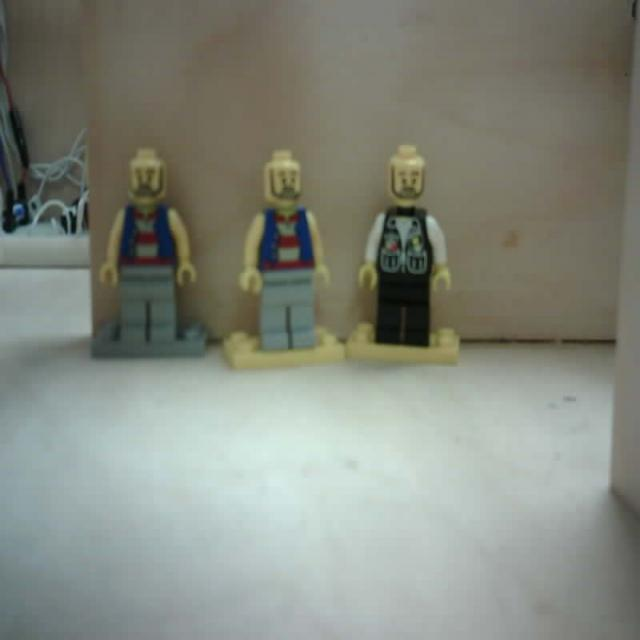Lego-People: (343, 145, 464, 363), (225, 149, 344, 370), (93, 146, 212, 359)
